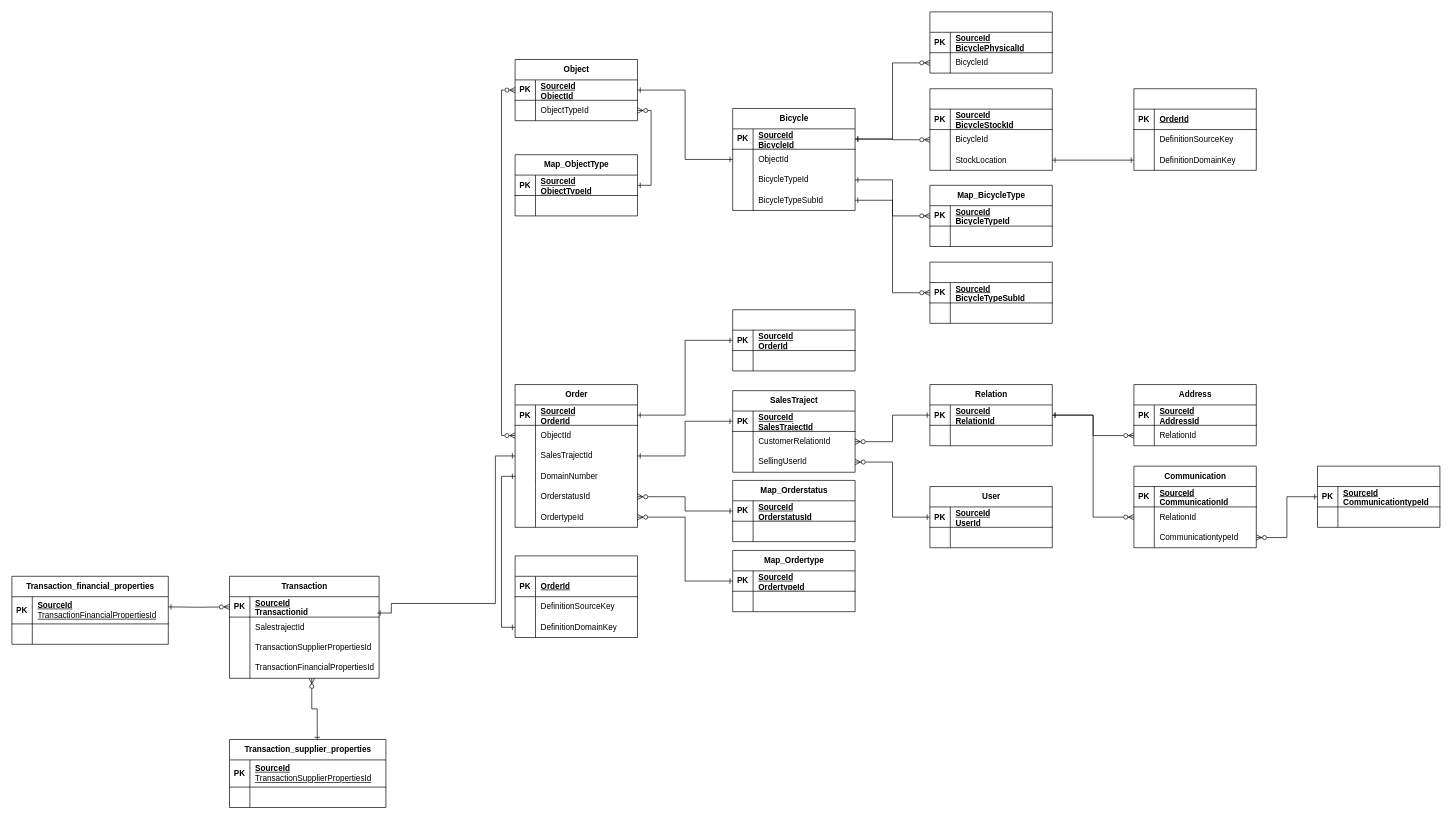
The diagram is 1452 pixels wide and 819 high, and some of its shapes have lost their labels. The shapes that lost their labels are listed below. From the top down, each one's box as (x1, y1, x2, y2) in pixels, then its label:
(929, 11, 1052, 73): Bicycle_Physical_Properties
(929, 88, 1052, 170): Bicycle_Stock_Properties
(1133, 88, 1256, 170): View_Link_Object_ Domain_Ingredients
(929, 261, 1052, 323): Map_BicycleTypeSub
(732, 309, 855, 371): Order_billinginformation
(1317, 465, 1440, 527): Map_Communicationtype
(514, 555, 638, 638): View_Link_Order_ Domain_Ingredients
